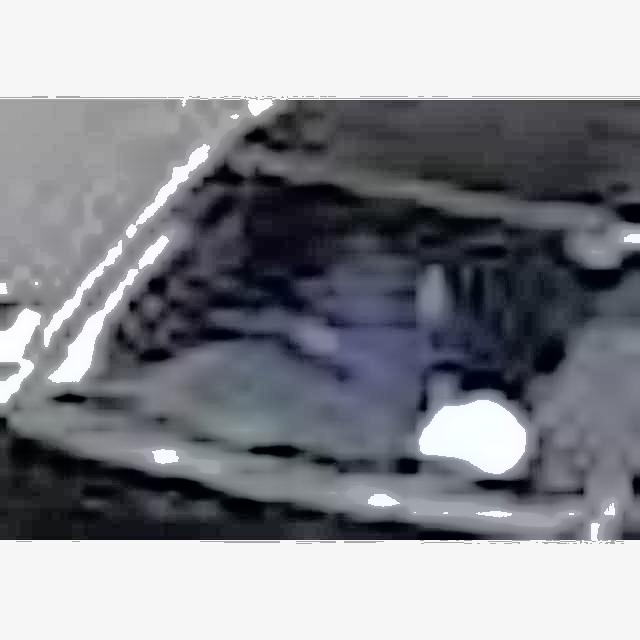tidak-pakai: (189, 215, 451, 415)
